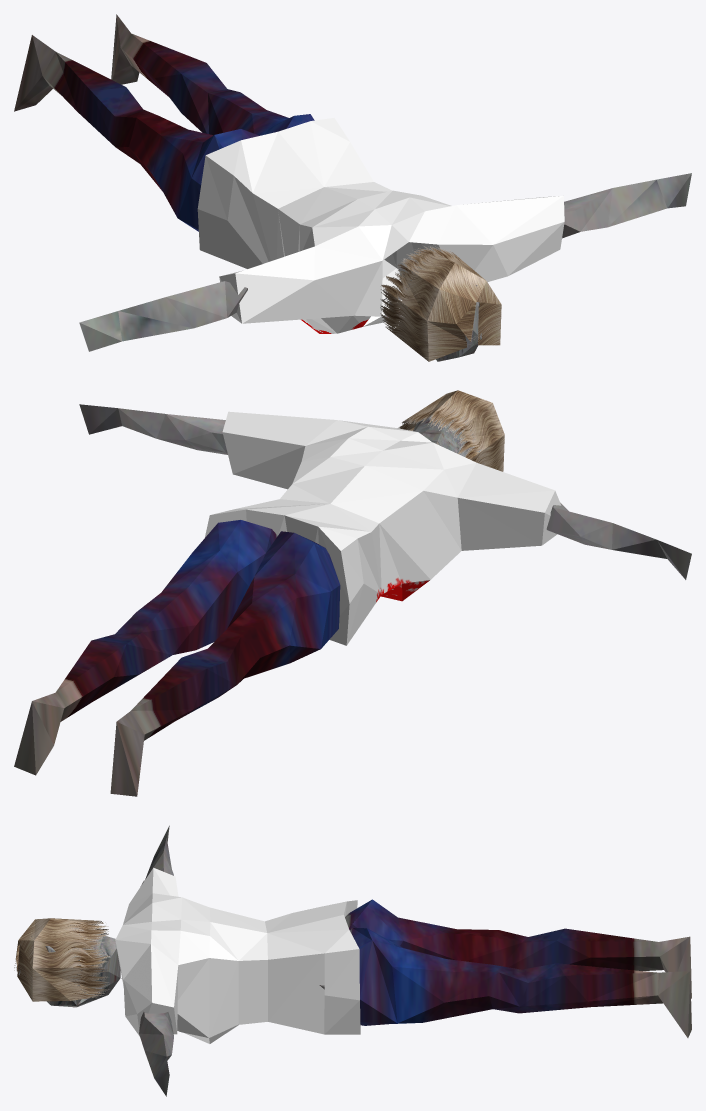
The model's file is zombiechick_alt2low_wtf.obj.
3 renders of one model, top to bottom at view 1: azimuth 30°, elevation 25°; view 2: azimuth 150°, elevation 25°; view 3: azimuth 270°, elevation 25°, orthographic. The views are drawn at different scales.
Parts seen in each view (by area): view 1: group1, group4, group5; view 2: group4, group1, group5, group2; view 3: group4, group1, group5, group3, group2.
Boxes of the visible parts, x1,y1,x2,y2 form: group1: (197,118,564,333); group4: (14,14,691,351); group5: (380,246,501,361); group4: (14,404,691,796); group1: (205,411,561,645); group5: (398,390,504,471); group2: (413,399,484,459); group4: (121,825,691,1096); group1: (115,867,360,1043); group5: (14,918,109,1001); group3: (51,928,120,1007); group2: (18,925,120,1005).
Bounding box in the file's own units: 576 × 123 × 660.
